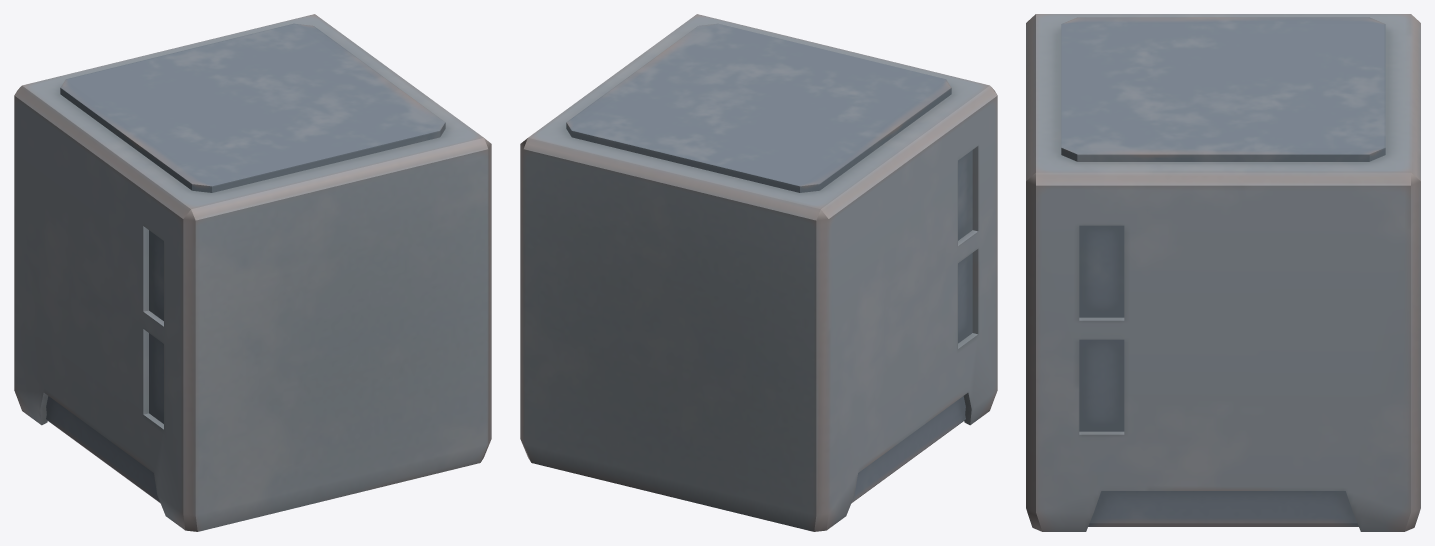
Rendered from Platform_New.fbx.
The picture shows the model from 3 angles, left to right: view 1: azimuth 30°, elevation 25°; view 2: azimuth 150°, elevation 25°; view 3: azimuth 270°, elevation 25°; orthographic projection. The views are drawn at different scales.
Visible parts, largest first — view 1: FloorTile; view 2: FloorTile; view 3: FloorTile.
Part boxes in pixels (left/top/right/bottom): FloorTile: left=14, top=14, right=491, bottom=531; FloorTile: left=520, top=14, right=997, bottom=531; FloorTile: left=1026, top=14, right=1420, bottom=531.
Size of the model in its own units: 200 by 204 by 200.
